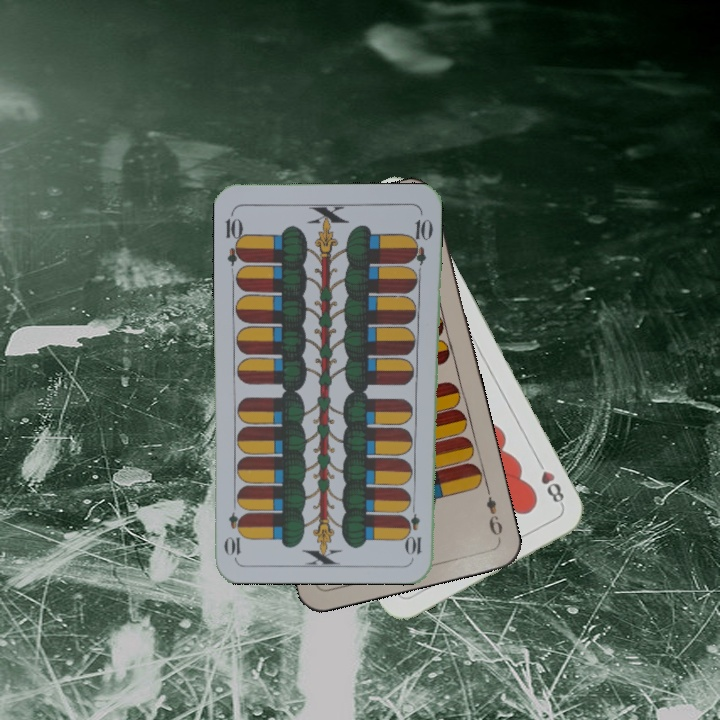E10: (221, 208, 248, 267), (406, 498, 424, 557)
E9: (482, 483, 505, 542)
H8: (532, 454, 567, 509)
